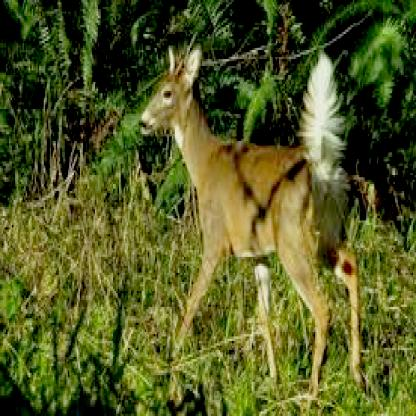Deer: (138, 42, 361, 392)
